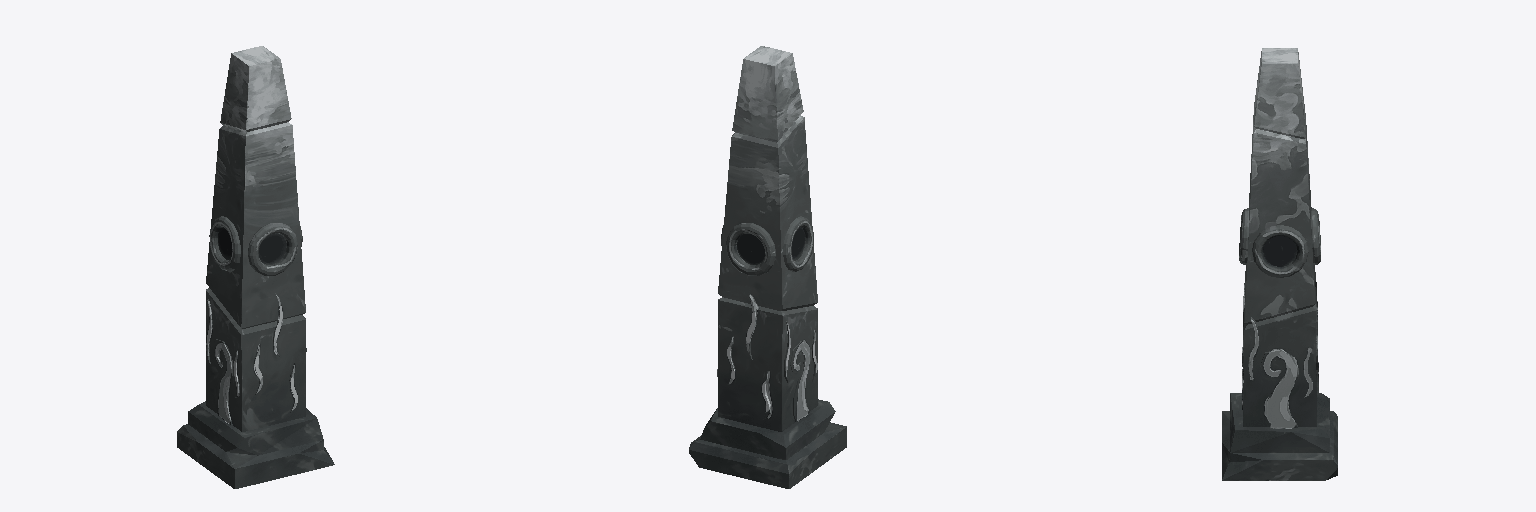
The picture shows the model from 3 angles: view 1: azimuth 30°, elevation 25°; view 2: azimuth 150°, elevation 25°; view 3: azimuth 270°, elevation 25°; orthographic projection.
Visible parts, largest first — view 1: Cube.001; view 2: Cube.001; view 3: Cube.001.
Boxes of the visible parts, x1,y1,x2,y2 form: Cube.001: [177, 46, 334, 488]; Cube.001: [689, 46, 846, 488]; Cube.001: [1222, 48, 1337, 480].
Size of the model in its own units: 7.67 by 29.12 by 7.67.
Materials: 1 (1 with a texture image).